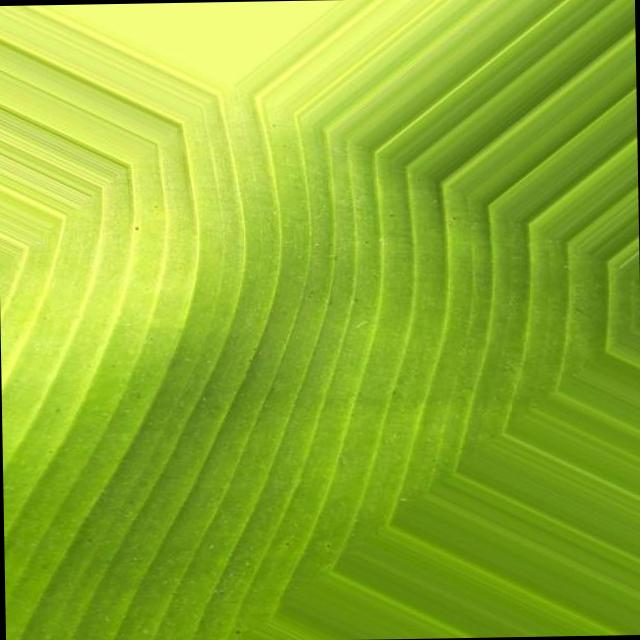Banana_Healthy: (109, 176, 482, 484)
